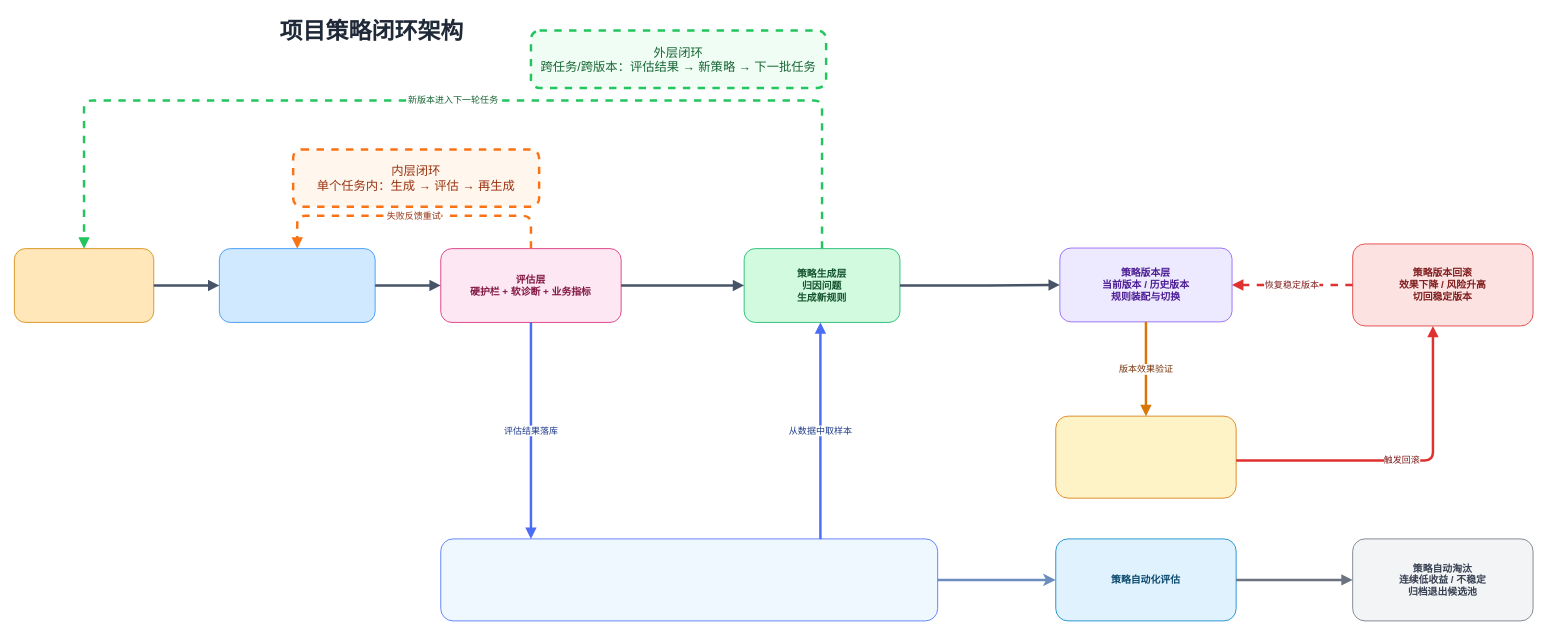
Some shapes in this 1548 by 636 pixel diagram are drawn without their labels. The shapes that lost their labels are listed below. From the top down, each one's centre as x and y in pixels, then its label:
[84,285]: 任务入口 API / CLI / Scheduler
[297,285]: 工作流执行 生成内容 / 图片 / 视频
[1145,456]: 观测验证 Dashboard / Metrics API 按版本比较效果
[689,579]: MySQL 持久化中心 task_runs / evaluation_history / content_metrics / strategy_versions
